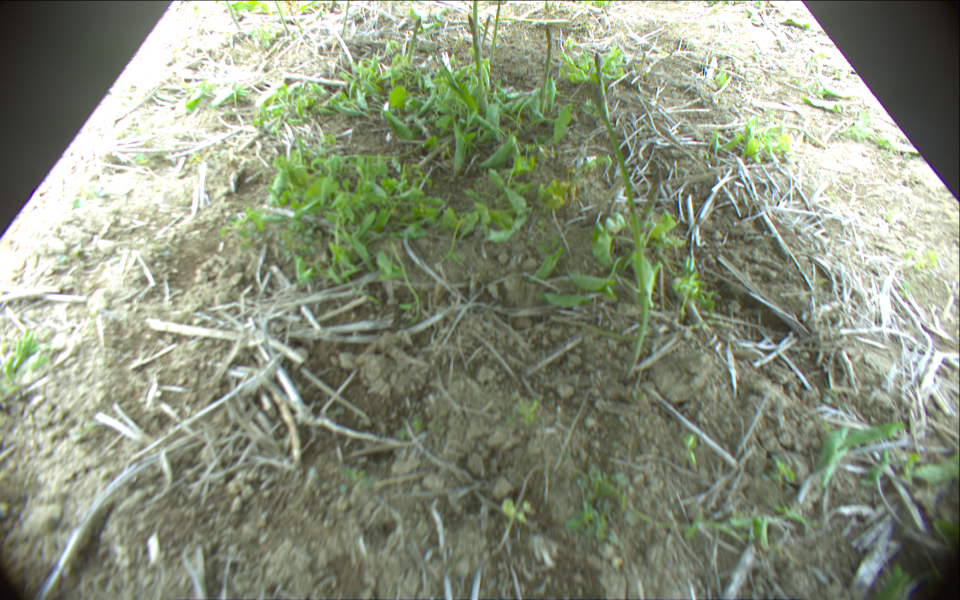aspa: (593, 52, 651, 379), (634, 169, 663, 250), (468, 15, 483, 107), (540, 26, 554, 113), (490, 1, 503, 66), (406, 16, 423, 65), (273, 1, 292, 33), (226, 1, 242, 29), (481, 14, 491, 52), (473, 1, 480, 38)
